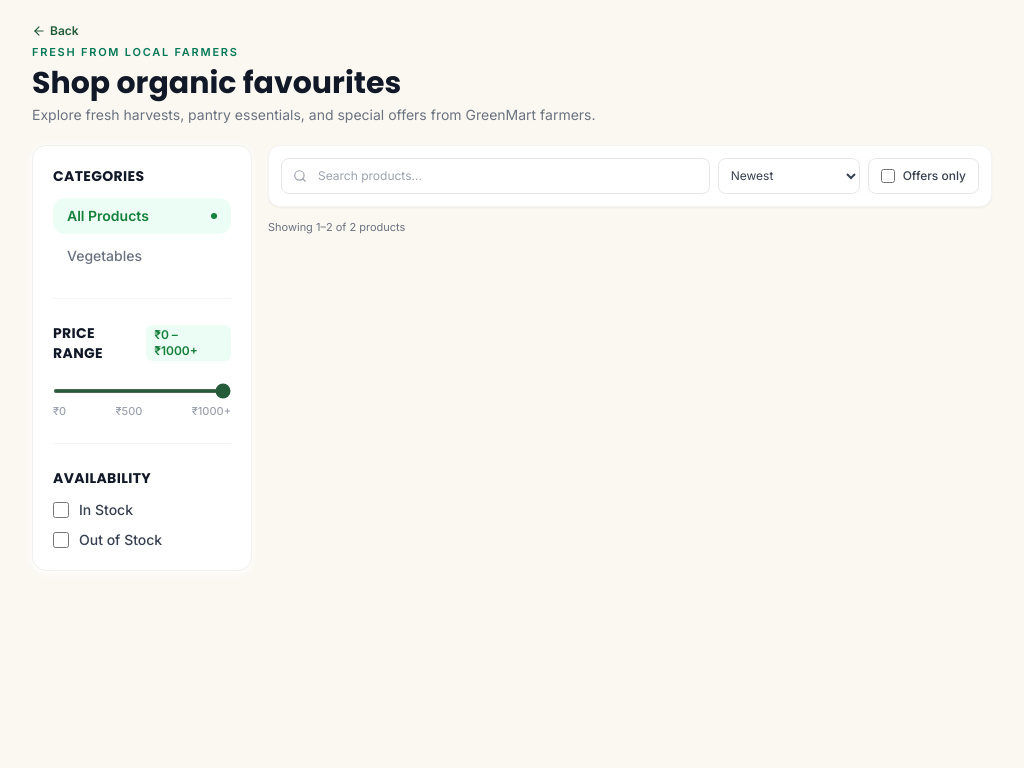
Test: Shop availability filters › filters in-stock and out-of-stock products, and treats both or neither selected as all
Expected: the checkbox labelled "In Stock" is not checked, 53,502 -> 69,518
What coordinates should you click on to do the following:
click the checkbox labelled "Out of Stock"
I would click on:
 (61, 540)
Its box is 53,532 -> 69,548.
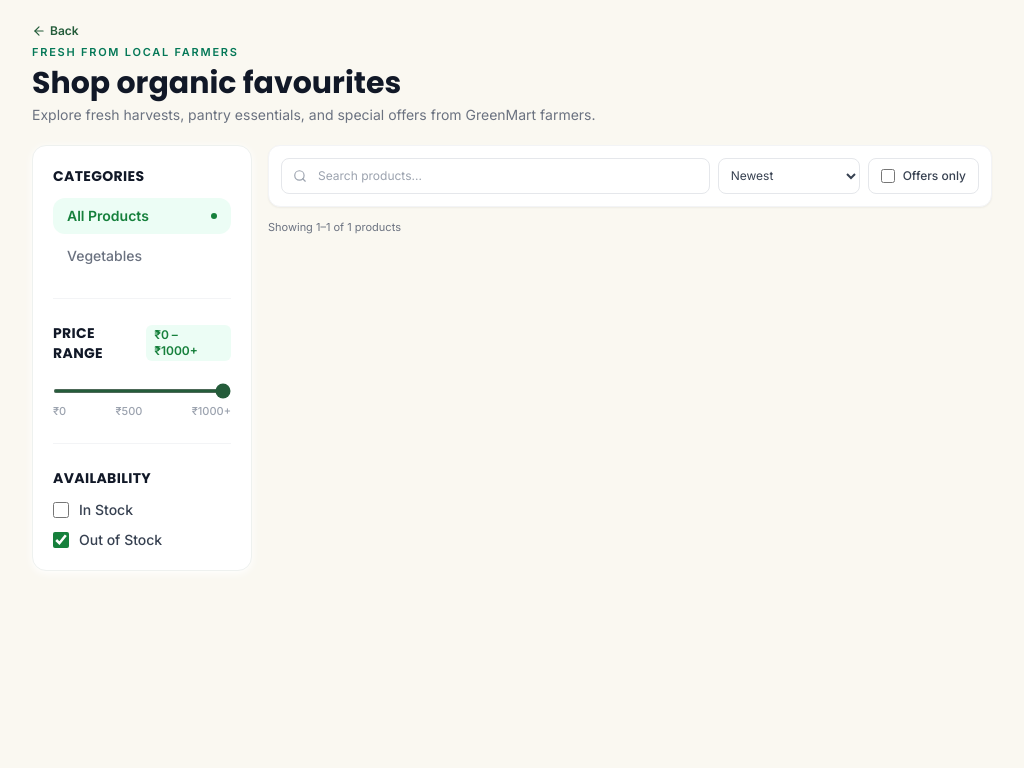
Expected: the text "Tomatoes" is not shown
Now the checkbox labelled "Out of Stock" is checked, box 53,532 -> 69,548
Now the text "Showing 1–1 of 1 products" is shown, box 268,220 -> 401,234
What coordinates should you click on to do the following:
click the checkbox labelled "In Stock"
I would click on:
 (61, 510)
Its box is 53,502 -> 69,518.
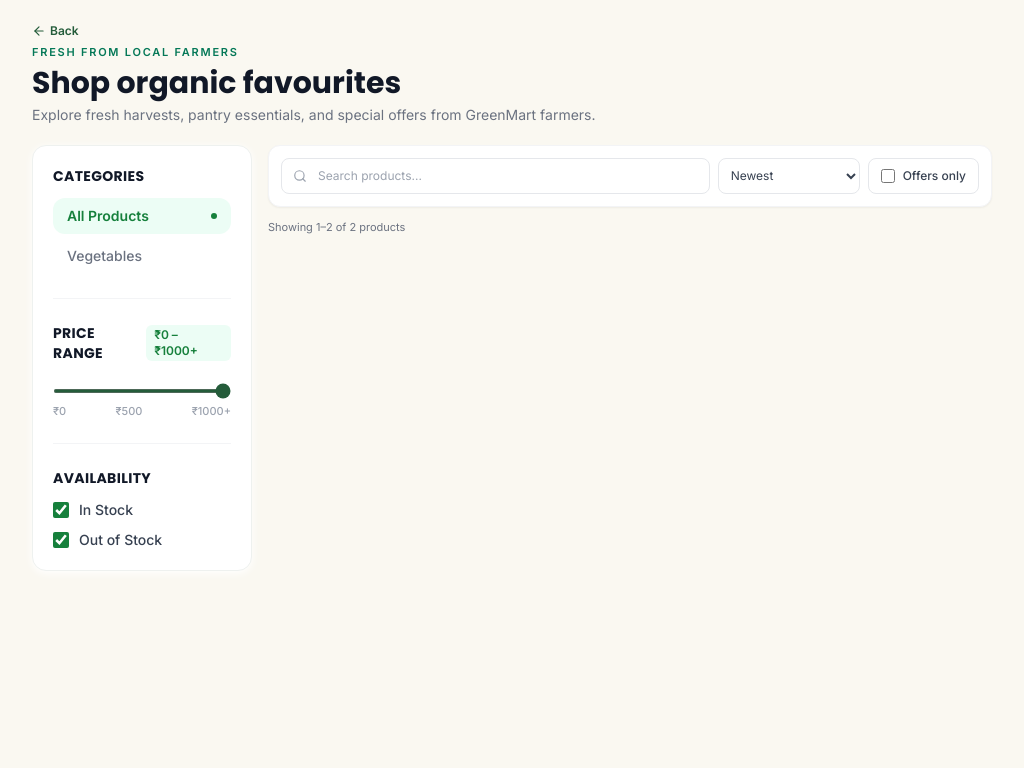
Now the checkbox labelled "In Stock" is checked, box 53,502 -> 69,518
Now the checkbox labelled "Out of Stock" is checked
What coordinates should you click on to do the following:
click the checkbox labelled "Out of Stock"
I would click on:
 (61, 540)
Its box is 53,532 -> 69,548.
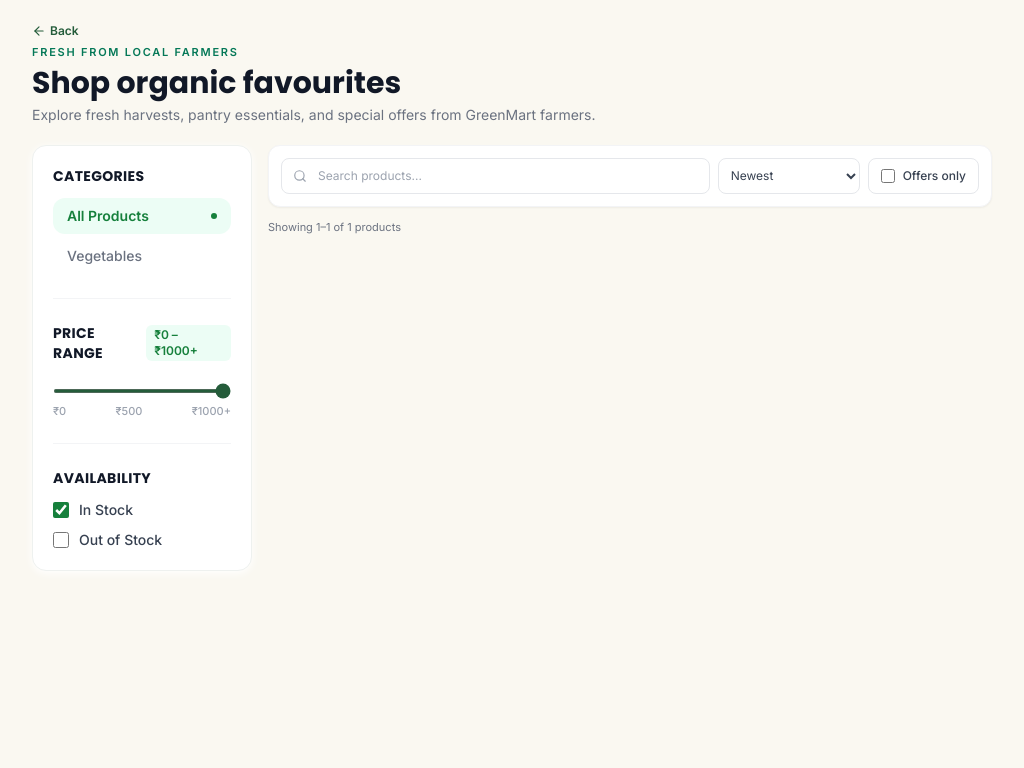
Expected: the text "Spinach" is not shown
What coordinates should you click on to do the following:
click the checkbox labelled "In Stock"
I would click on:
 (61, 510)
Its box is 53,502 -> 69,518.
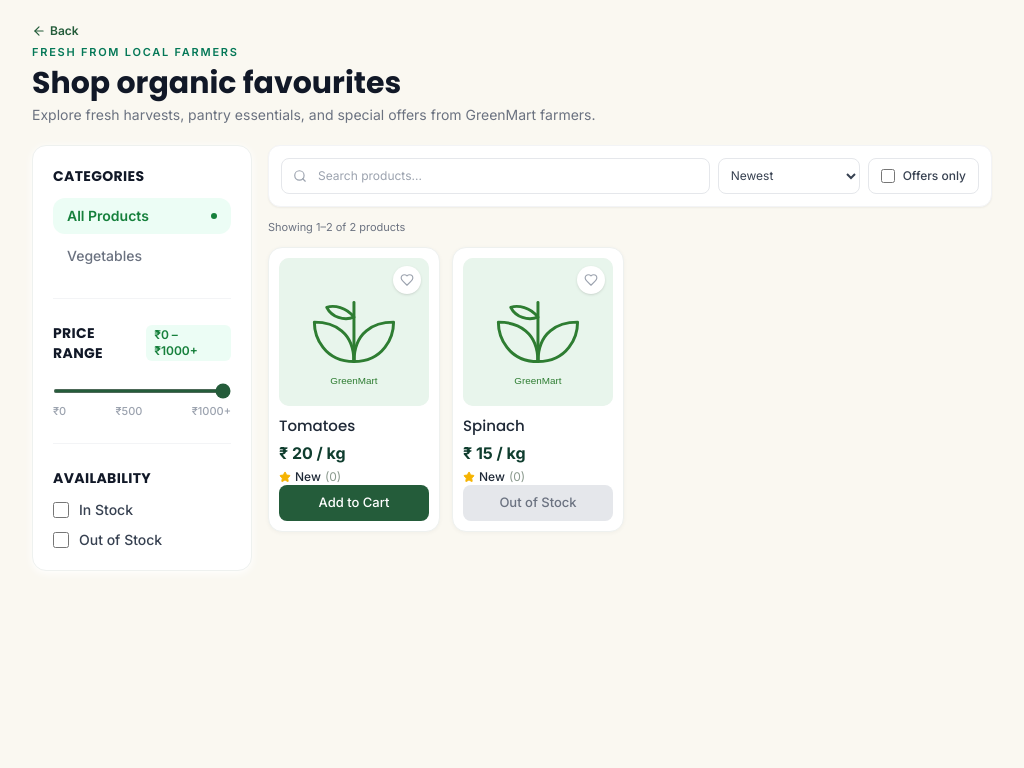
Now the heading "Tomatoes" is shown, box 279,415 -> 355,436
Now the heading "Spinach" is shown, box 463,415 -> 525,436
